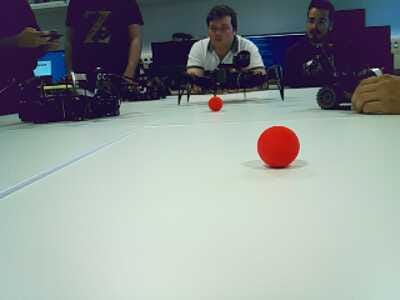bola_cerca: (257, 125, 299, 168)
bola_lejos: (209, 96, 224, 112)
hexapodo_ajeno: (177, 53, 288, 107), (13, 79, 125, 123), (106, 70, 174, 108)
